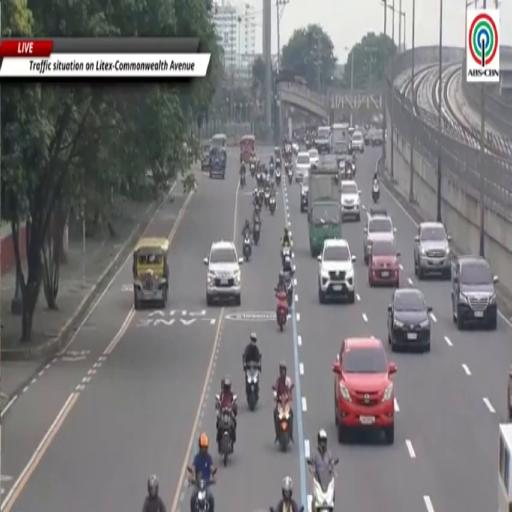car: (333, 338, 396, 444), (452, 255, 498, 329), (388, 288, 431, 351), (204, 240, 243, 306), (318, 239, 356, 303), (414, 222, 450, 279), (363, 208, 396, 264), (369, 238, 399, 287), (341, 181, 360, 221), (295, 152, 311, 182), (315, 126, 331, 153), (300, 174, 308, 212), (352, 131, 364, 153), (372, 130, 383, 147), (309, 149, 319, 167), (508, 365, 511, 422), (364, 128, 372, 146), (292, 141, 299, 154)
jeepney: (133, 238, 169, 309), (209, 147, 226, 179), (240, 135, 255, 164), (201, 143, 210, 170)
motorcycle: (307, 459, 335, 511), (216, 395, 233, 467), (276, 384, 293, 452), (188, 468, 214, 511), (245, 363, 260, 411), (276, 291, 288, 331), (285, 271, 293, 307), (243, 232, 251, 262), (282, 245, 291, 266), (372, 181, 380, 204), (253, 220, 260, 245), (253, 191, 261, 210), (269, 196, 276, 215), (287, 164, 293, 186), (264, 190, 270, 209), (275, 169, 281, 186), (259, 186, 264, 205), (256, 171, 262, 186), (250, 163, 255, 178), (240, 173, 245, 188), (351, 160, 356, 175), (276, 157, 281, 169), (269, 164, 274, 175), (298, 506, 304, 511)
truck: (308, 159, 341, 257), (331, 123, 350, 155)
